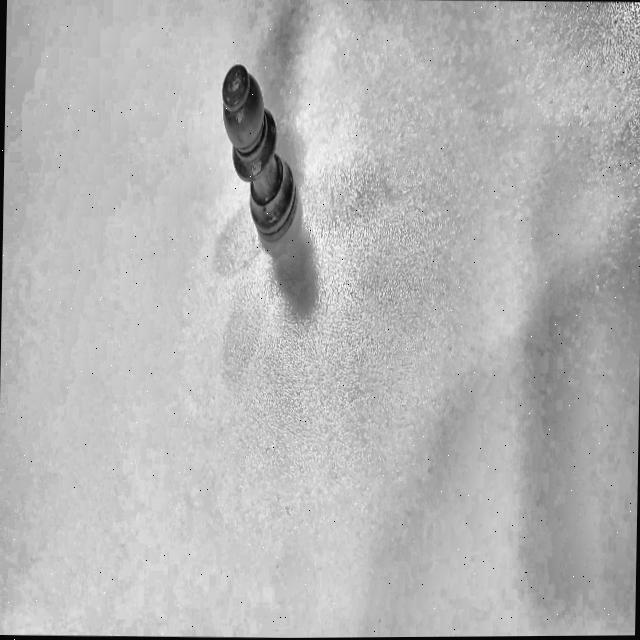black-bishop: (215, 59, 303, 249)
